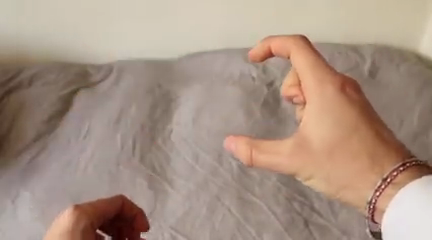C: (211, 23, 382, 194)
